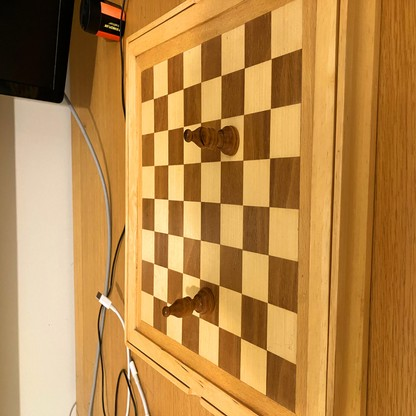bishop_black: (184, 127, 240, 156), (162, 290, 214, 319)
